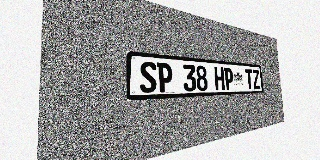3: (183, 64, 196, 91)
8: (195, 65, 208, 91)
H: (214, 67, 225, 90)
P: (157, 62, 173, 92), (224, 67, 234, 90)
S: (139, 61, 157, 93)
T: (245, 69, 253, 89)
Z: (252, 69, 260, 89)
